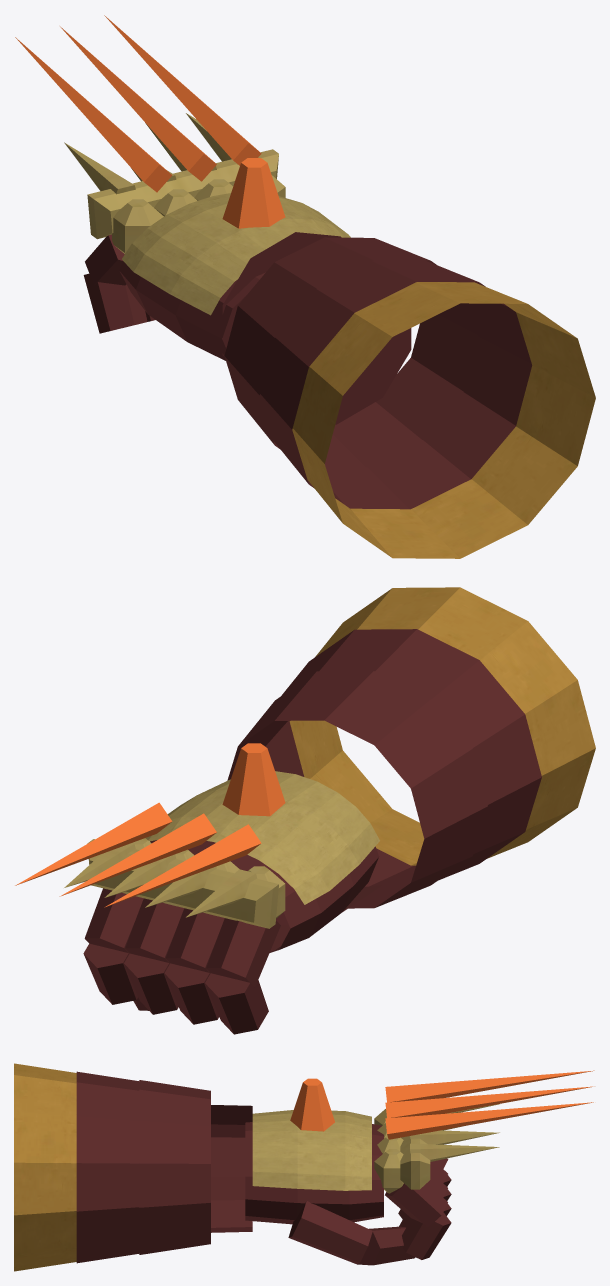
Rendered from wpn_gauntlet_legend.glb.
3 views of the same model, one above another, from view 1: azimuth 30°, elevation 25°; view 2: azimuth 150°, elevation 25°; view 3: azimuth 270°, elevation 25° (orthographic). The views are drawn at different scales.
Parts seen in each view (by area): view 1: wpn_gauntlet_legend; view 2: wpn_gauntlet_legend; view 3: wpn_gauntlet_legend.
Boxes of the visible parts, x1,y1,x2,y2 form: wpn_gauntlet_legend: [15, 15, 595, 558]; wpn_gauntlet_legend: [15, 587, 595, 1034]; wpn_gauntlet_legend: [14, 1063, 594, 1271].
Size of the model in its own units: 0.152 by 0.1368 by 0.39.
Materials: 4 (2 with a texture image).
